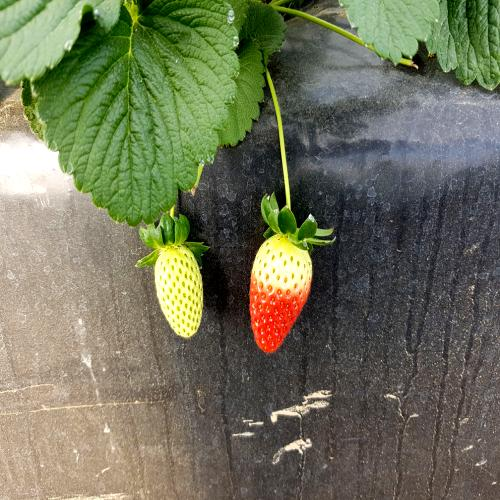partially-ripe: (242, 224, 318, 369)
unripe: (147, 236, 217, 355)
